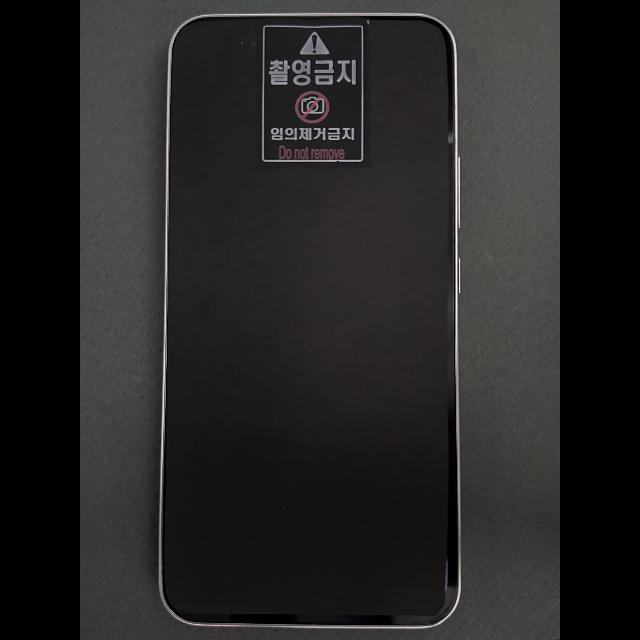phone: (158, 12, 462, 629)
sticker: (257, 18, 370, 169)
